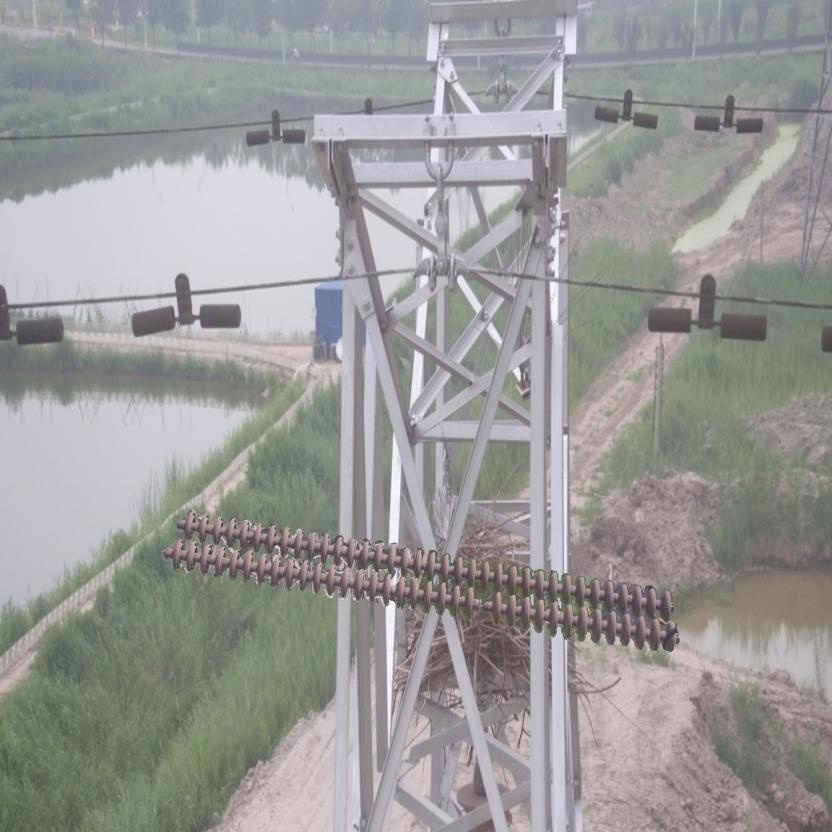defect: (462, 586, 507, 620)
